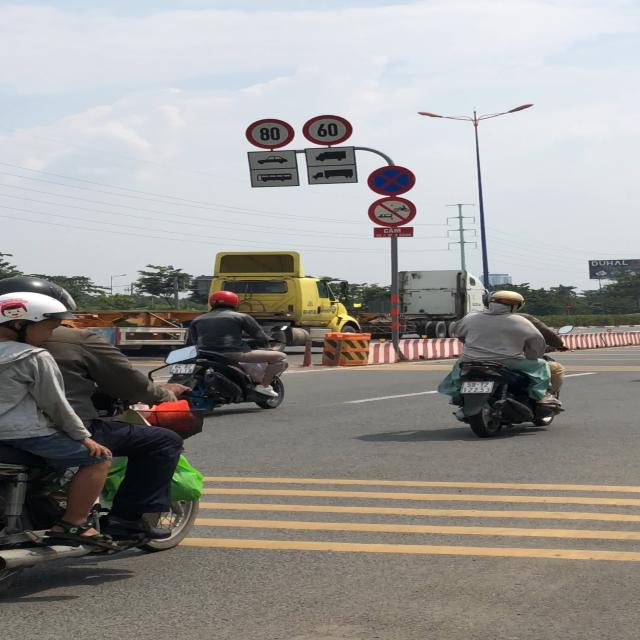Bien bao cam dung xe va do xe: (367, 164, 418, 197)
Bien bao toc do toi da cho phep: (244, 117, 298, 150), (303, 113, 354, 145)
